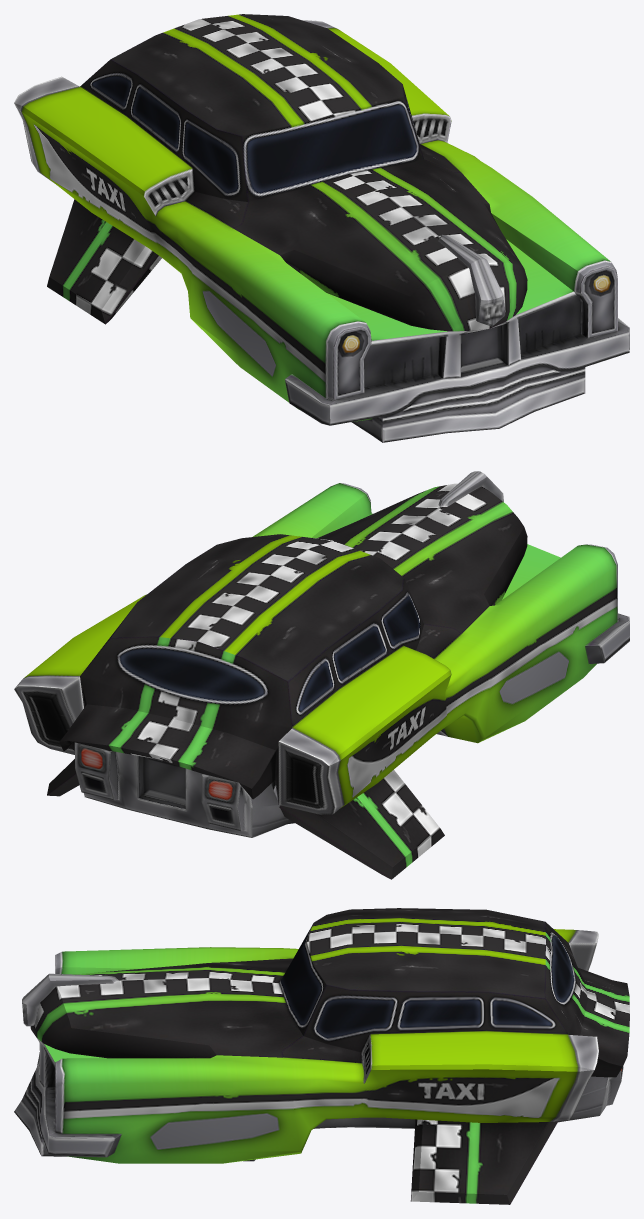
The model's file is JpMauricio_low.FBX.
3 renders of one model, top to bottom at view 1: azimuth 30°, elevation 25°; view 2: azimuth 150°, elevation 25°; view 3: azimuth 270°, elevation 25°, orthographic. The views are drawn at different scales.
Parts seen in each view (by area): view 1: JpMauricio; view 2: JpMauricio; view 3: JpMauricio.
Part boxes in pixels (x1=…): JpMauricio: x1=14, y1=14, x2=629, y2=442; JpMauricio: x1=14, y1=471, x2=629, y2=879; JpMauricio: x1=14, y1=908, x2=629, y2=1204.
Size of the model in its own units: 1.9 by 1.18 by 3.32.
